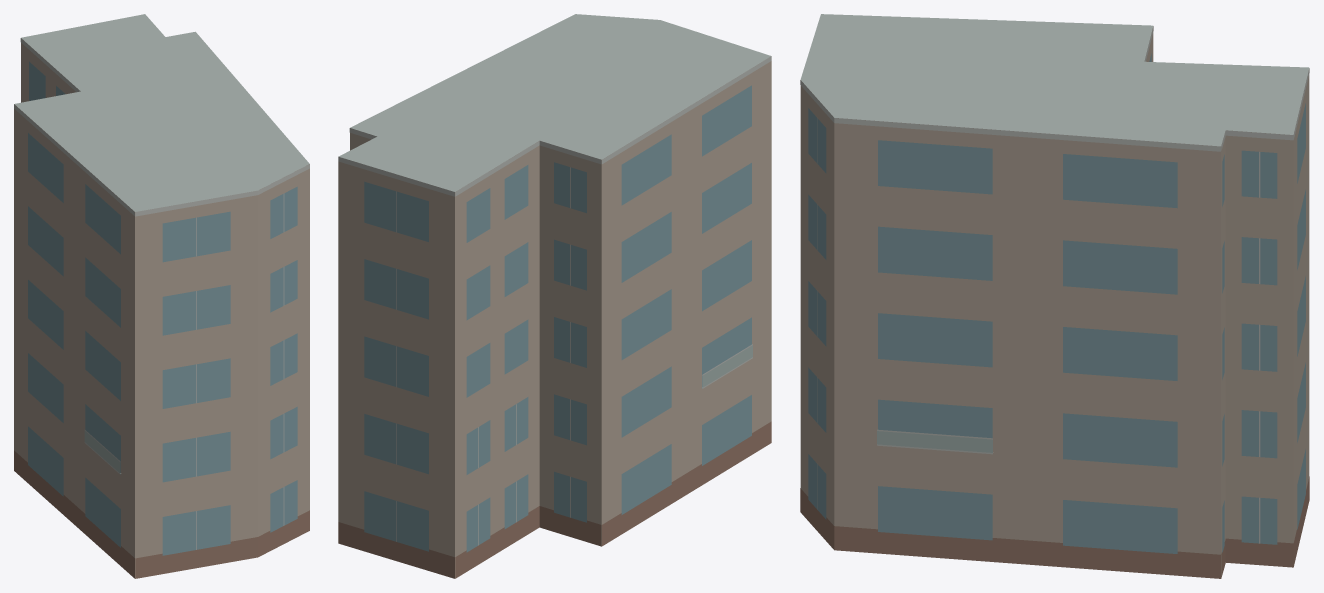
Rendered from survey-upis-32643837.glb.
3 renders of one model, left to right at view 1: azimuth 30°, elevation 25°; view 2: azimuth 150°, elevation 25°; view 3: azimuth 270°, elevation 25°, orthographic. The views are drawn at different scales.
Visible parts, largest first — view 1: survey-upis-32643837.tmp; view 2: survey-upis-32643837.tmp; view 3: survey-upis-32643837.tmp.
Part boxes in pixels (<box>): survey-upis-32643837.tmp: <box>14,14,309,578</box>; survey-upis-32643837.tmp: <box>338,14,771,578</box>; survey-upis-32643837.tmp: <box>800,14,1309,578</box>.
Size of the model in its own units: 12.95 by 19.7 by 21.03.
